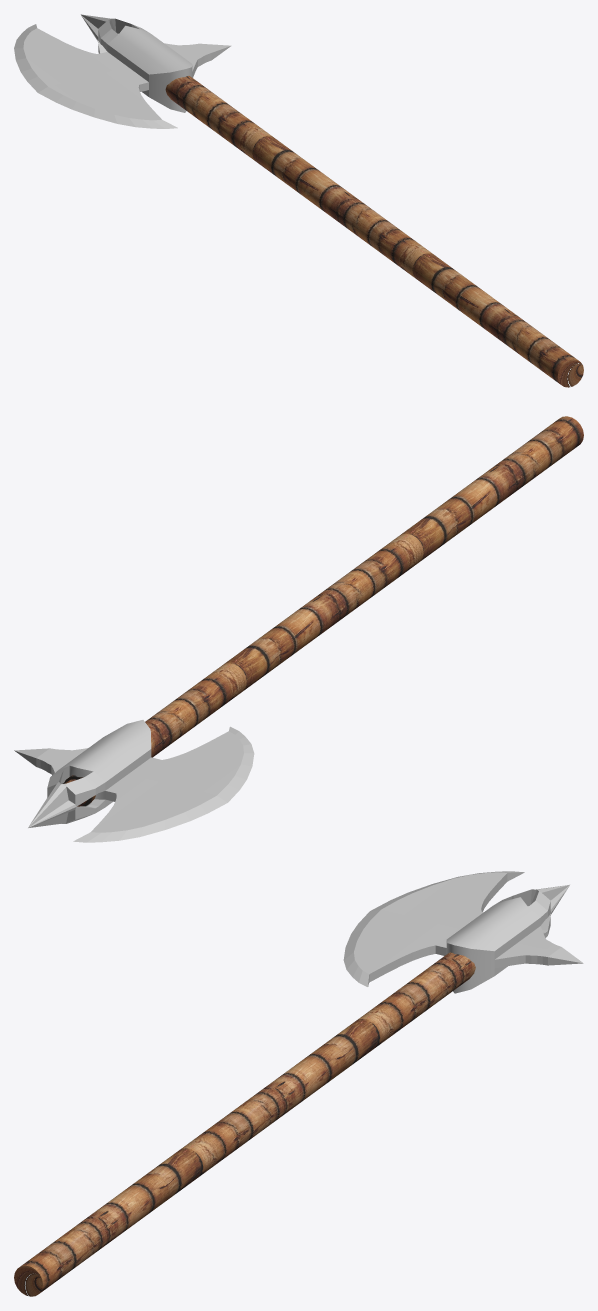
Rendered from machado2.obj.
3 views of the same model, one above another, from view 1: azimuth 30°, elevation 25°; view 2: azimuth 150°, elevation 25°; view 3: azimuth 330°, elevation 25° (orthographic). The views are drawn at different scales.
Parts seen in each view (by area): view 1: machado3; view 2: machado3; view 3: machado3.
Part boxes in pixels (bbox=[...]): machado3: bbox=[14, 14, 583, 387]; machado3: bbox=[14, 416, 583, 842]; machado3: bbox=[14, 871, 583, 1296].
Bounding box in the file's own units: 2.75 × 0.5939 × 12.09.
